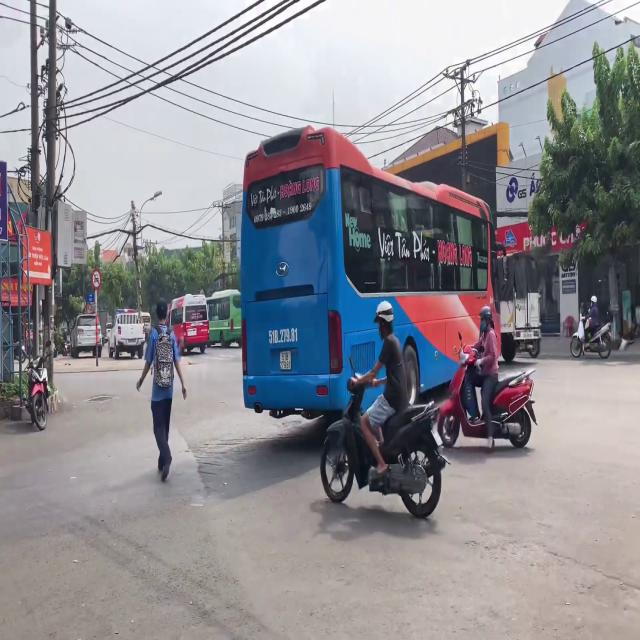bien_trang: (280, 350, 292, 372)
